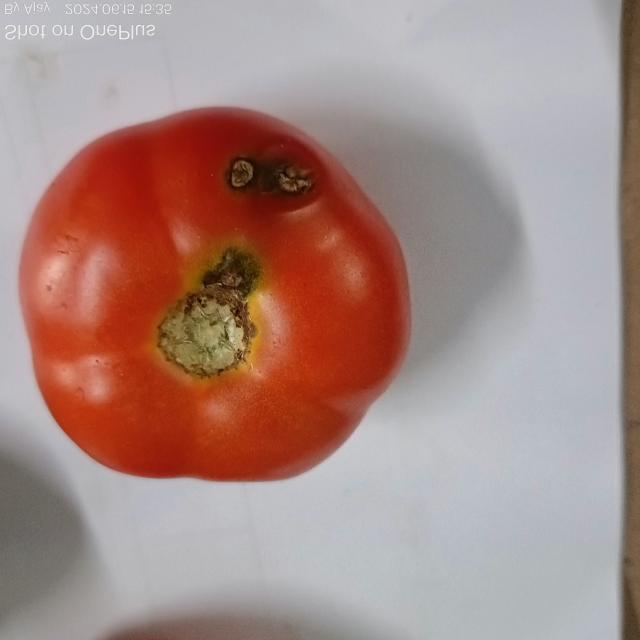Botrytis: (225, 154, 319, 216), (206, 248, 262, 300)
